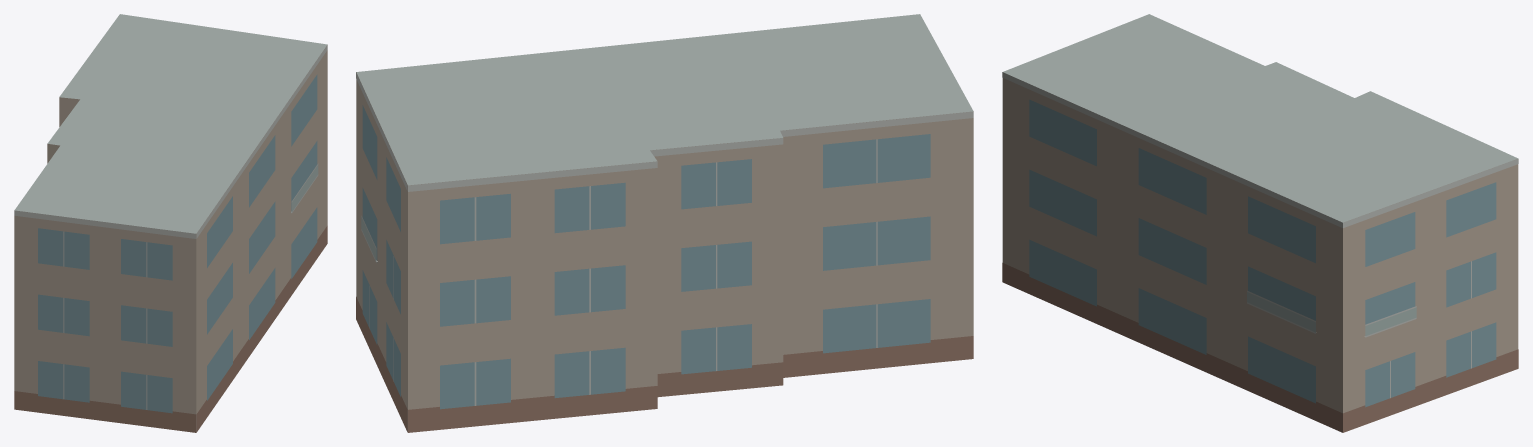
The model's file is survey-upis-32512937.glb.
3 views of the same model, side by side, from view 1: azimuth 30°, elevation 25°; view 2: azimuth 150°, elevation 25°; view 3: azimuth 270°, elevation 25° (orthographic). The views are drawn at different scales.
Parts seen in each view (by area): view 1: survey-upis-32512937.tmp; view 2: survey-upis-32512937.tmp; view 3: survey-upis-32512937.tmp.
Part boxes in pixels (left/top/right/bottom): survey-upis-32512937.tmp: left=14, top=14, right=327, bottom=432; survey-upis-32512937.tmp: left=356, top=14, right=973, bottom=432; survey-upis-32512937.tmp: left=1002, top=14, right=1518, bottom=432.
Bounding box in the file's own units: 19.49 × 9.15 × 20.36.
